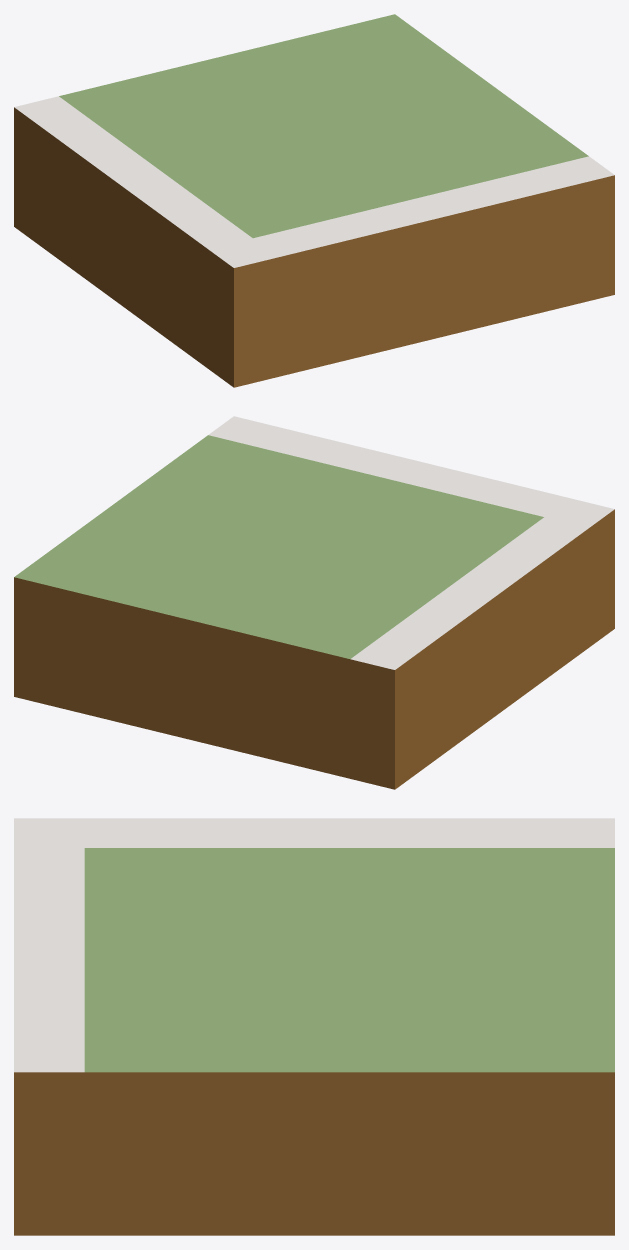
File: floor_green4.fbx
The picture shows the model from 3 angles, top to bottom: view 1: azimuth 30°, elevation 25°; view 2: azimuth 150°, elevation 25°; view 3: azimuth 270°, elevation 25°; orthographic projection. The views are drawn at different scales.
Visible parts, largest first — view 1: floor_green4; view 2: floor_green4; view 3: floor_green4.
Boxes of the visible parts, x1,y1,x2,y2 form: floor_green4: (14, 14, 614, 387); floor_green4: (14, 416, 614, 789); floor_green4: (14, 818, 614, 1235).
Size of the model in its own units: 100 by 100 by 30.
